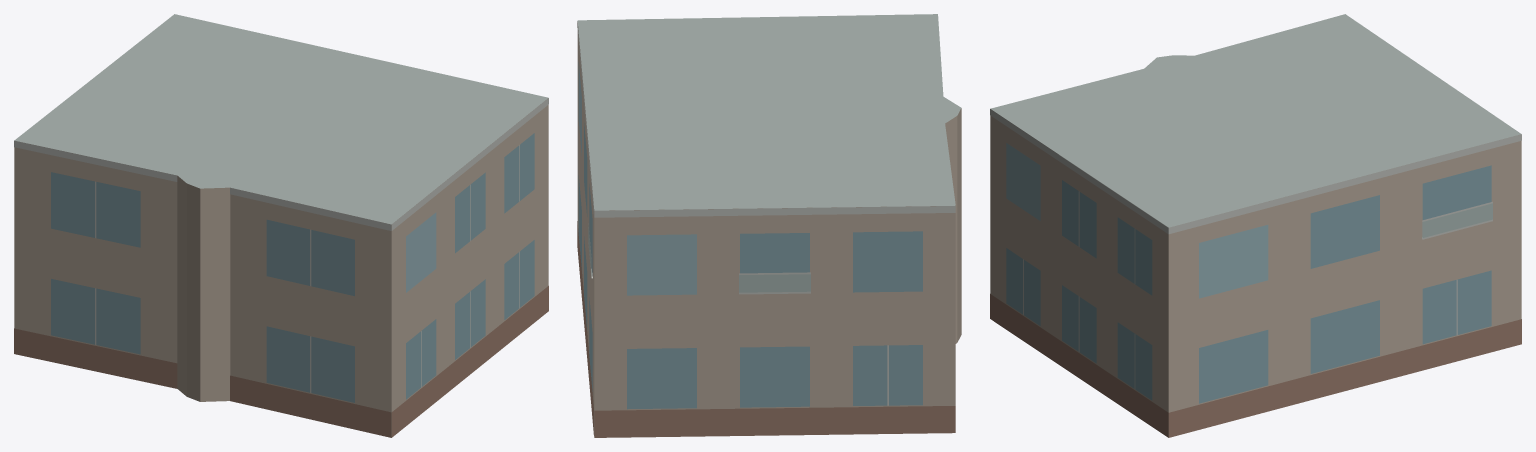
Rendered from survey-upis-32967125.glb.
3 renders of one model, left to right at view 1: azimuth 30°, elevation 25°; view 2: azimuth 150°, elevation 25°; view 3: azimuth 270°, elevation 25°, orthographic. The views are drawn at different scales.
Parts seen in each view (by area): view 1: survey-upis-32967125.tmp; view 2: survey-upis-32967125.tmp; view 3: survey-upis-32967125.tmp.
Boxes of the visible parts, left/top/right/bottom form: survey-upis-32967125.tmp: left=14, top=14, right=548, bottom=437; survey-upis-32967125.tmp: left=577, top=14, right=961, bottom=437; survey-upis-32967125.tmp: left=990, top=14, right=1521, bottom=437.
Size of the model in its own units: 17.03 by 7.8 by 17.89.
